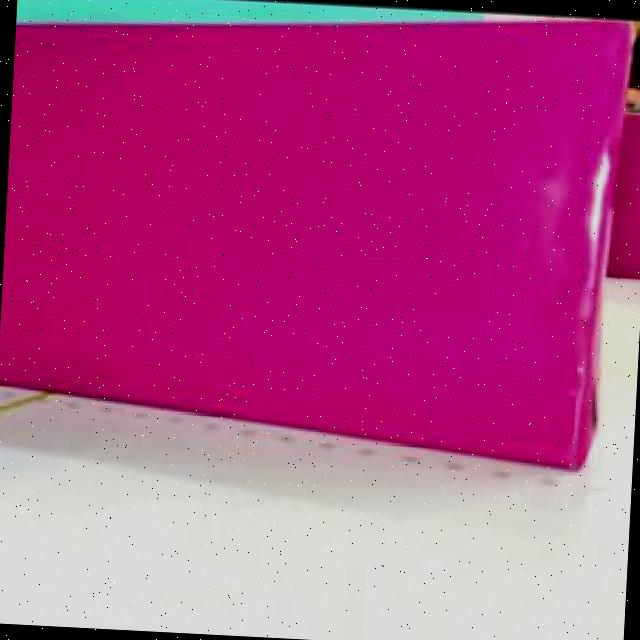xparking: (0, 23, 599, 468), (609, 124, 640, 281)
